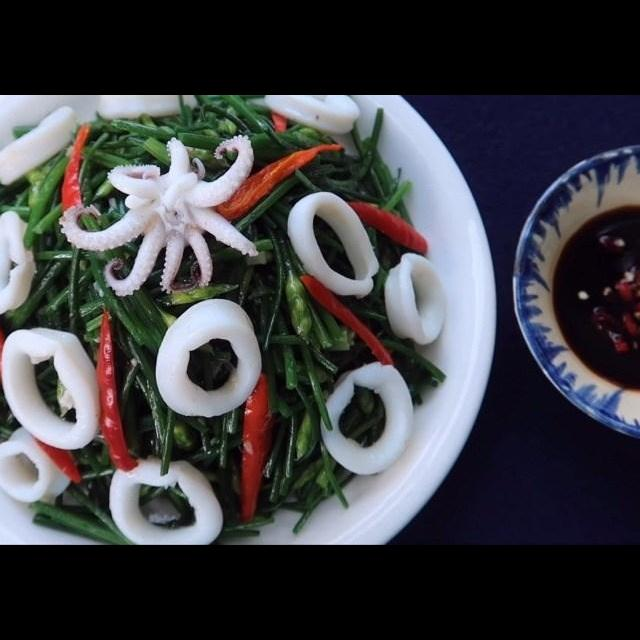muc: (56, 133, 261, 301), (0, 323, 110, 453), (152, 296, 266, 420), (315, 359, 418, 478), (281, 187, 384, 302), (102, 451, 227, 545), (378, 249, 452, 348), (0, 104, 85, 190), (0, 423, 75, 505), (262, 96, 366, 139), (0, 208, 38, 318)
